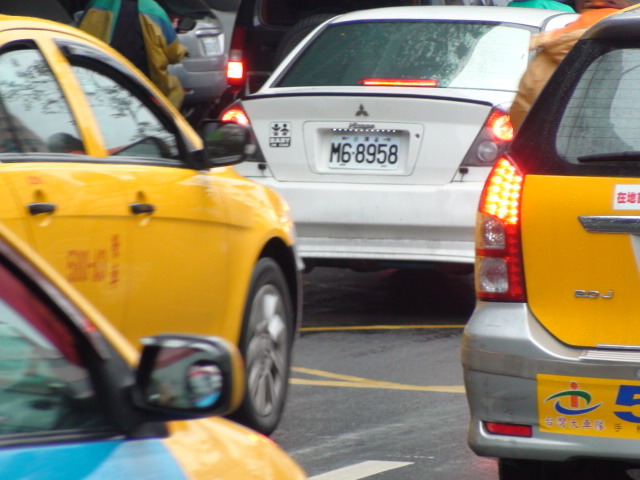plate: (326, 130, 404, 172)
